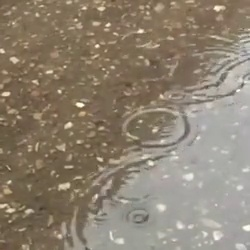drop: (176, 46, 244, 100), (122, 106, 189, 148), (107, 169, 154, 203), (85, 195, 121, 222), (156, 87, 187, 107), (122, 31, 152, 48), (127, 209, 149, 226)
